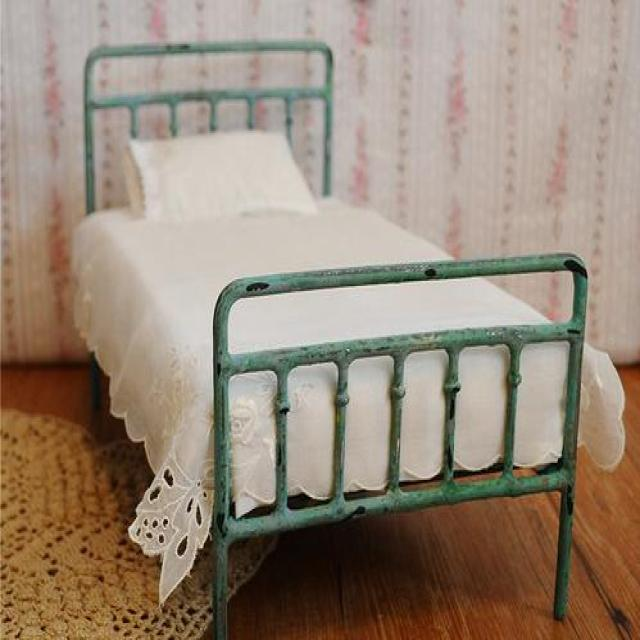bed: (70, 37, 624, 638)
